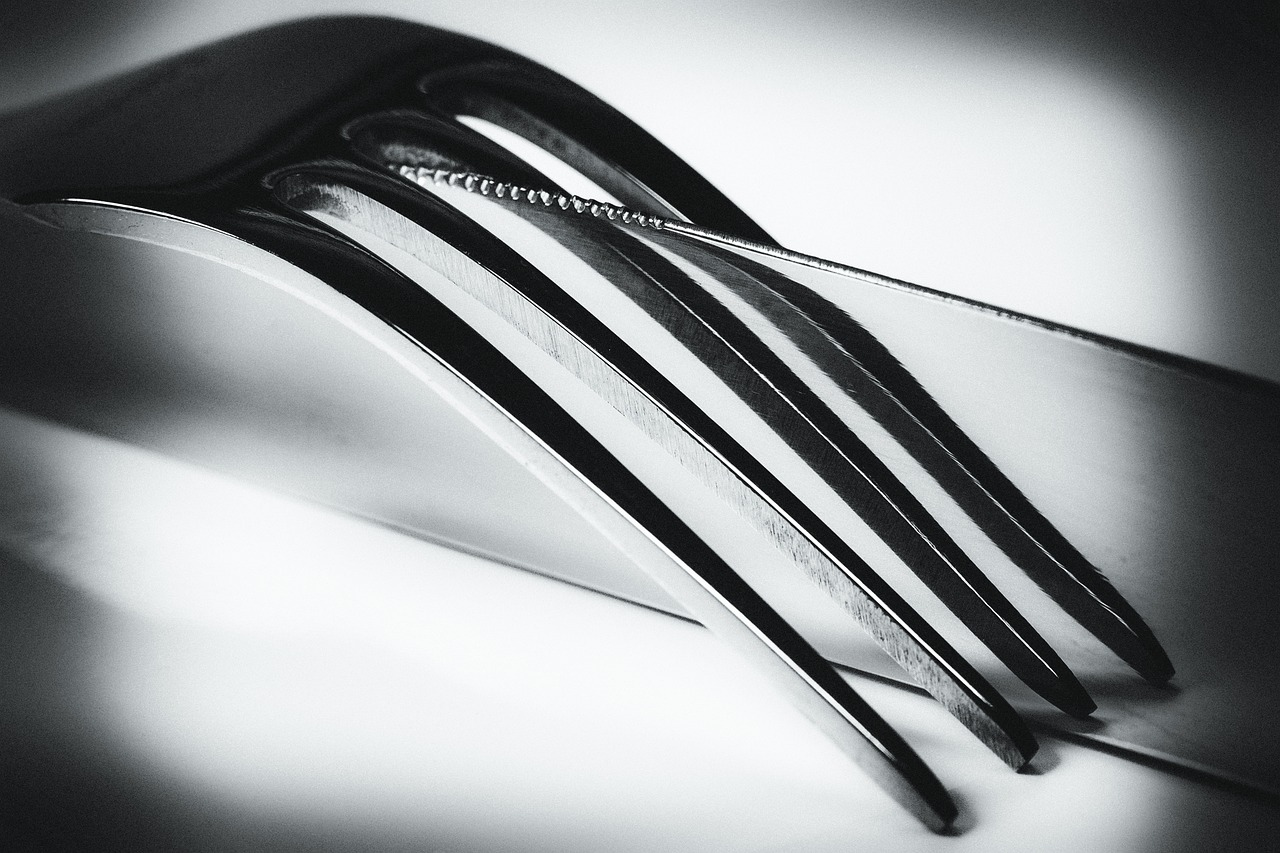knife: (2, 123, 1280, 795)
